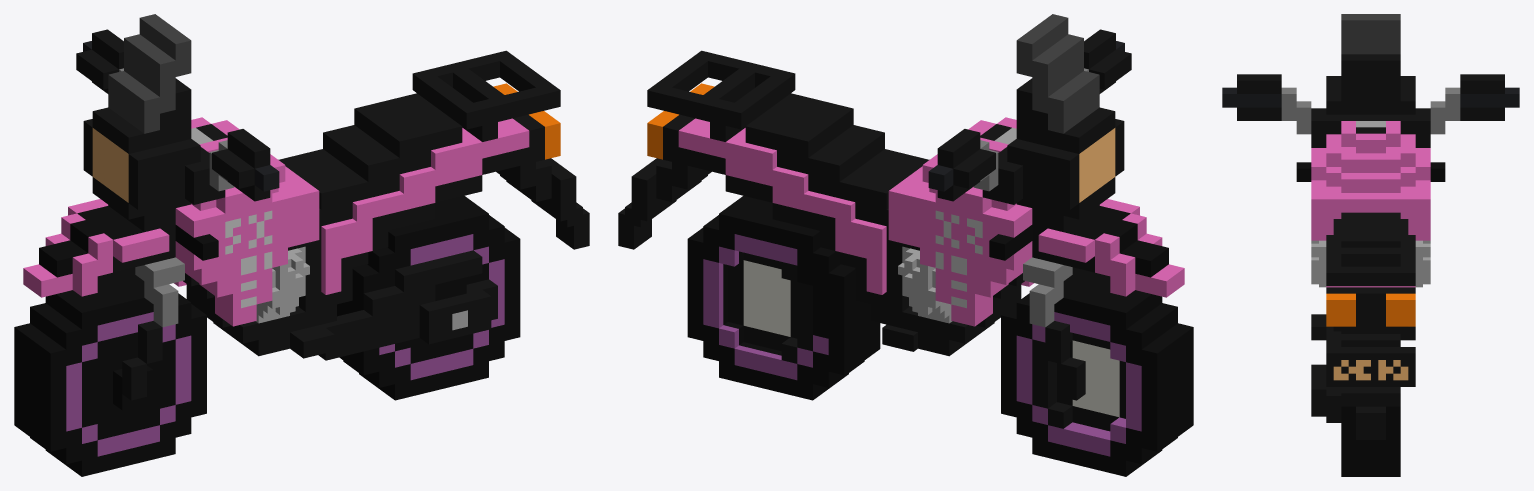
File: pinkmotorbike-len2.glb
3 views of the same model, side by side, from view 1: azimuth 30°, elevation 25°; view 2: azimuth 150°, elevation 25°; view 3: azimuth 270°, elevation 25° (orthographic). The views are drawn at different scales.
Parts seen in each view (by area): view 1: _0; view 2: _0; view 3: _0.
Part boxes in pixels (left/top/right/bottom): _0: left=14, top=14, right=589, bottom=476; _0: left=618, top=14, right=1193, bottom=476; _0: left=1222, top=14, right=1519, bottom=476.
Size of the model in its own units: 0.105 by 0.075 by 0.06.
